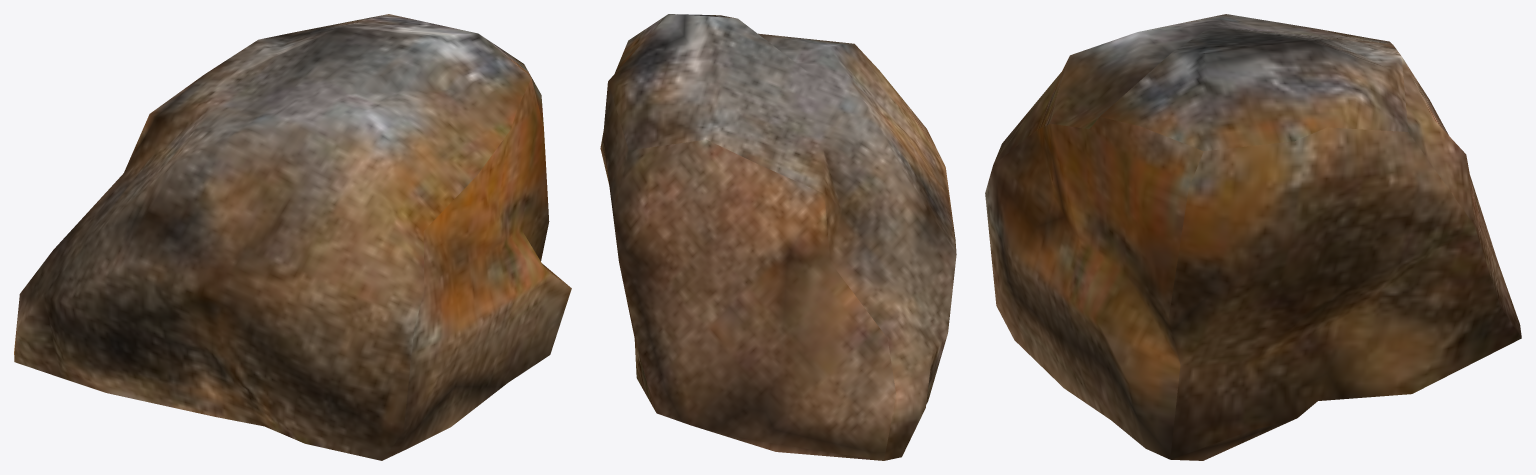
File: rock-round-lod1.glb
3 views of the same model, side by side, from view 1: azimuth 30°, elevation 25°; view 2: azimuth 150°, elevation 25°; view 3: azimuth 270°, elevation 25° (orthographic). The views are drawn at different scales.
Visible parts, largest first — view 1: boulder_04; view 2: boulder_04; view 3: boulder_04.
Boxes of the visible parts, x1=… form: boulder_04: x1=14, y1=14, x2=571, y2=460; boulder_04: x1=600, y1=14, x2=956, y2=460; boulder_04: x1=985, y1=14, x2=1521, y2=460.
Size of the model in its own units: 2.48 by 1.87 by 2.46.
Materials: 1 (1 with a texture image).
